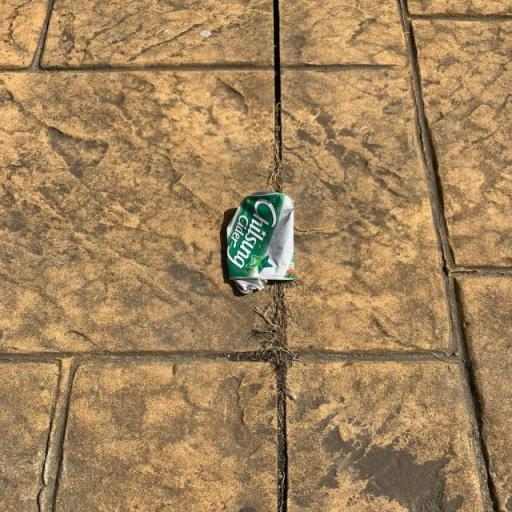metal: (190, 172, 333, 329)
